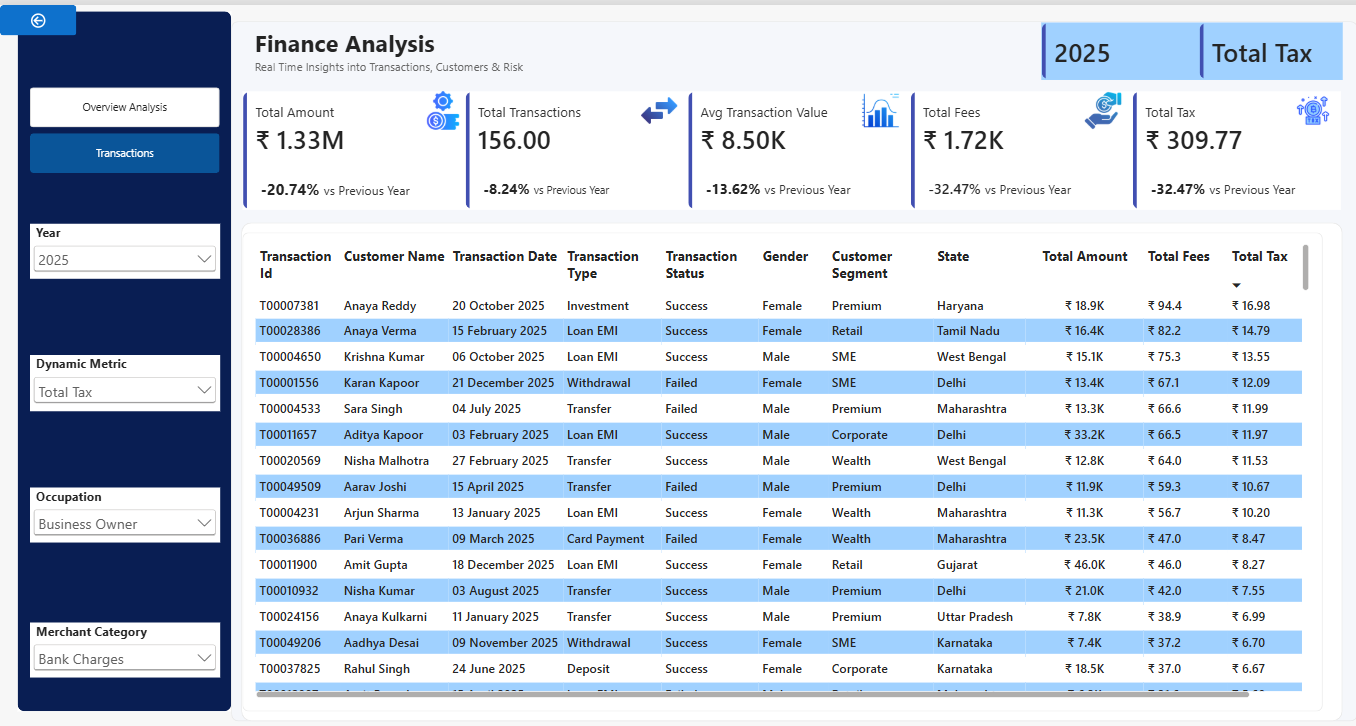

What the dashboard file says about the page in this screenshot:
{"tool":"powerbi","page":{"name":"Transactions","canvas":[1800,950],"ordinal":1},"visuals":[{"type":"shape","box":[22.9,8.2,279.6,915.7],"z":0},{"type":"shape","box":[302.5,21.3,1473.3,915.7],"z":1000},{"type":"cardVisual","fields":{"Data":["finance_transactions.Dashboard Title"]},"box":[317.2,8.2,596.8,104.7],"z":2000},{"type":"cardVisual","fields":{"Data":["finance_transactions.Total Amount","finance_transactions.Total Transactions","finance_transactions.Avg Transaction Value","finance_transactions.Total Fees","finance_transactions.Total Tax"]},"box":[317.2,112.8,1439,155],"z":3000},{"type":"image","box":[554.3,112.8,50,50],"z":5000},{"type":"image","box":[837.2,112.8,50,50],"z":6000},{"type":"image","box":[1417.7,112.8,50,50],"z":7000},{"type":"image","box":[1126.6,112.8,50,50],"z":8000},{"type":"image","box":[1692.4,112.8,50,50],"z":9000},{"type":"shape","box":[315.6,284.5,1440.6,652.4],"z":11000},{"type":"cardVisual","fields":{"Data":["finance_transactions.Selected Year","finance_transactions.Selected Dynamic Measure"]},"box":[1362.1,22.9,394.1,75.2],"z":12000},{"type":"tableEx","fields":{"Values":["finance_transactions.transaction_id","customers.customer_name","finance_transactions.transaction_date","finance_transactions.transaction_type","finance_transactions.transaction_status","customers.gender","customers.customer_segment","customers.state","finance_transactions.Total Amount","finance_transactions.Total Fees","finance_transactions.Total Tax"]},"box":[317.2,297.6,1412.8,626.3],"z":13000},{"type":"actionButton","box":[0,0,100,40],"z":14000},{"type":"slicer","fields":{"Values":["Calendar Table.Year"]},"box":[39.2,286.2,248.5,71.9],"z":17001},{"type":"slicer","fields":{"Values":["Dynamic Metric.Dynamic Metric"]},"box":[39.2,457.9,248.5,73.6],"z":17002},{"type":"slicer","fields":{"Values":["customers.occupation"]},"box":[39.2,631.2,248.5,71.9],"z":17003},{"type":"slicer","fields":{"Values":["finance_transactions.merchant_category"]},"box":[39.2,807.8,248.5,71.9],"z":17004},{"type":"pageNavigator","box":[39.2,107.9,248.5,112.8],"z":17005}]}

Visuals, with their boxes on the page's 1800x950 design canvas (x1, y1, x2, y2). These are canvas units, not pixel positions in the 1356x726 screenshot, which may show the page scaled, cropped or inside an application window:
shape: 23, 8, 302, 924
shape: 302, 21, 1776, 937
cardVisual - finance_transactions.Dashboard Title: 317, 8, 914, 113
cardVisual - finance_transactions.Total Amount x finance_transactions.Total Transactions: 317, 113, 1756, 268
image: 554, 113, 604, 163
image: 837, 113, 887, 163
image: 1418, 113, 1468, 163
image: 1127, 113, 1177, 163
image: 1692, 113, 1742, 163
shape: 316, 284, 1756, 937
cardVisual - finance_transactions.Selected Year x finance_transactions.Selected Dynamic Measure: 1362, 23, 1756, 98
tableEx - finance_transactions.transaction_id x customers.customer_name: 317, 298, 1730, 924
actionButton: 0, 0, 100, 40
slicer - Calendar Table.Year: 39, 286, 288, 358
slicer - Dynamic Metric.Dynamic Metric: 39, 458, 288, 532
slicer - customers.occupation: 39, 631, 288, 703
slicer - finance_transactions.merchant_category: 39, 808, 288, 880
pageNavigator: 39, 108, 288, 221
